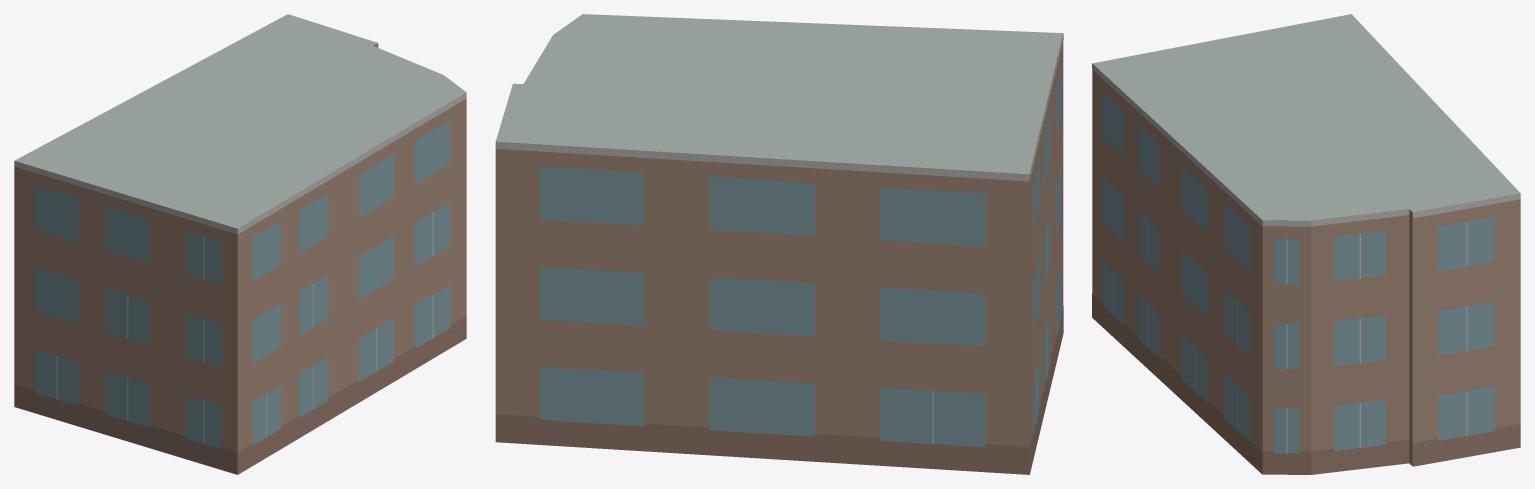
Rendered from survey-upis-32799926.glb.
3 renders of one model, left to right at view 1: azimuth 30°, elevation 25°; view 2: azimuth 150°, elevation 25°; view 3: azimuth 270°, elevation 25°, orthographic. The views are drawn at different scales.
Parts seen in each view (by area): view 1: survey-upis-32799926.tmp; view 2: survey-upis-32799926.tmp; view 3: survey-upis-32799926.tmp.
Part boxes in pixels (x1,y1,x2,y2): survey-upis-32799926.tmp: [14, 14, 466, 474]; survey-upis-32799926.tmp: [495, 14, 1063, 474]; survey-upis-32799926.tmp: [1092, 14, 1520, 474].
Size of the model in its own units: 17.96 by 10.3 by 15.74.
